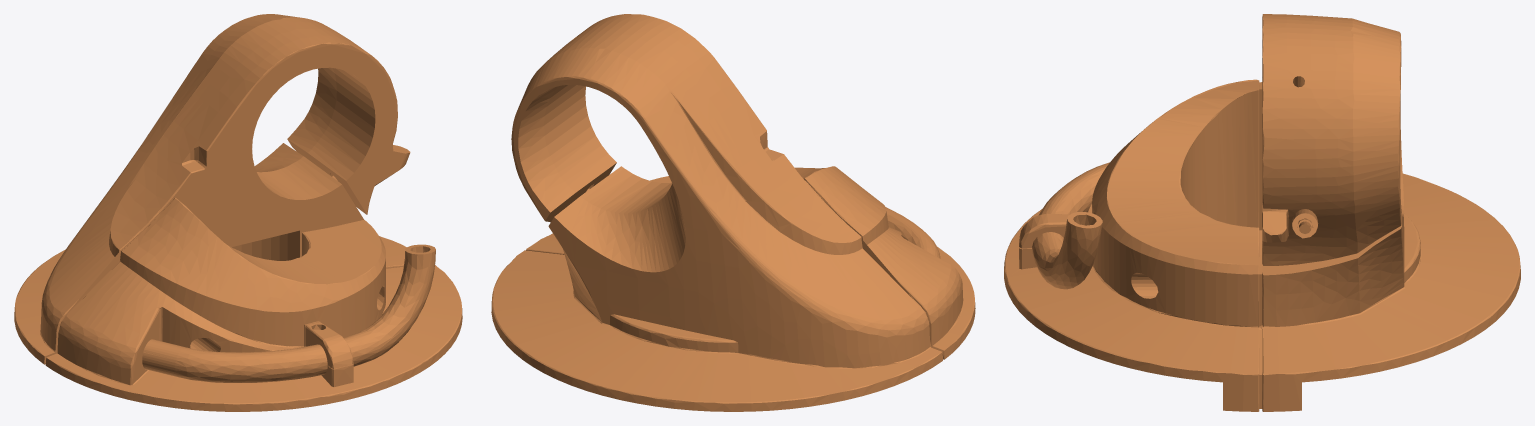
The model's file is arm1_3.dae.
3 renders of one model, left to right at view 1: azimuth 30°, elevation 25°; view 2: azimuth 150°, elevation 25°; view 3: azimuth 270°, elevation 25°, orthographic. The views are drawn at different scales.
Parts seen in each view (by area): view 1: Cylinder_007; view 2: Cylinder_007; view 3: Cylinder_007.
Part boxes in pixels (<box>): Cylinder_007: <box>14,14,462,411</box>; Cylinder_007: <box>491,14,975,411</box>; Cylinder_007: <box>1004,14,1520,411</box>.
Size of the model in its own units: 0.1706 by 0.1699 by 0.116.
